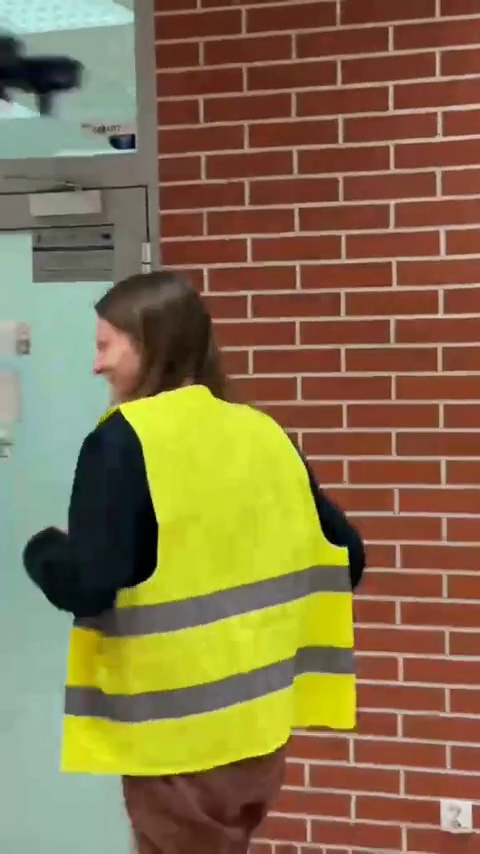vest: (30, 270, 370, 847)
